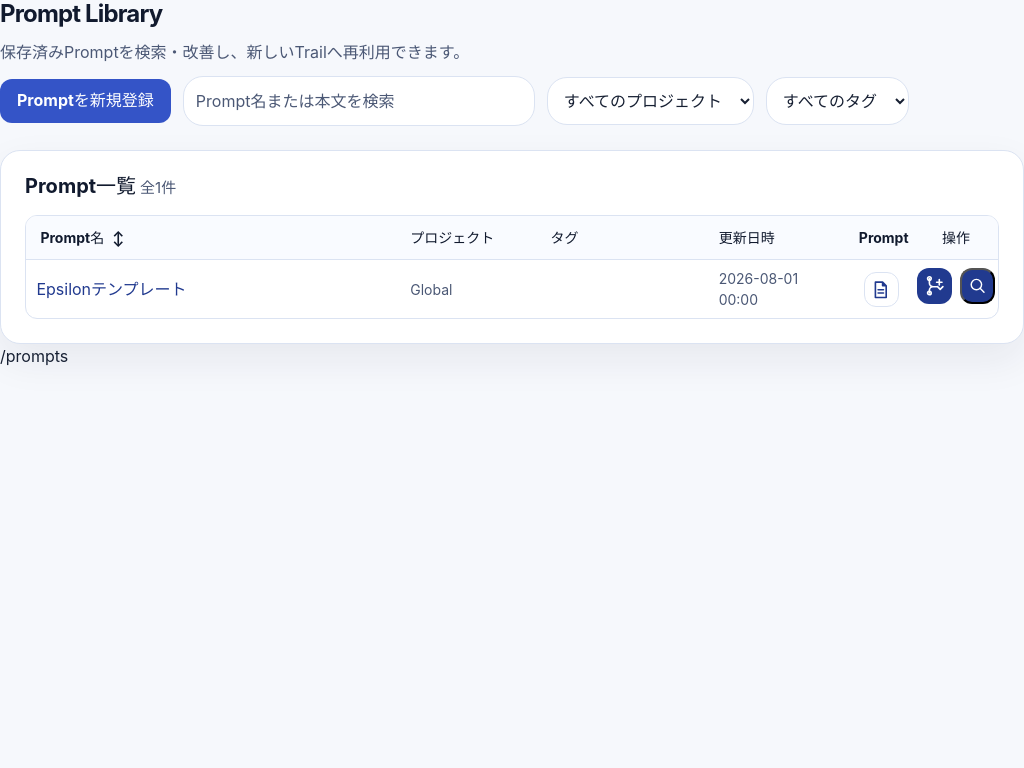
Test: PromptLibraryPage › restores saved variable values on open, keeps them after re-opening, and uses a badge label
Click the button named "「Epsilonテンプレート」のPrompt本文を表示": (881,290) [864,272,899,307]
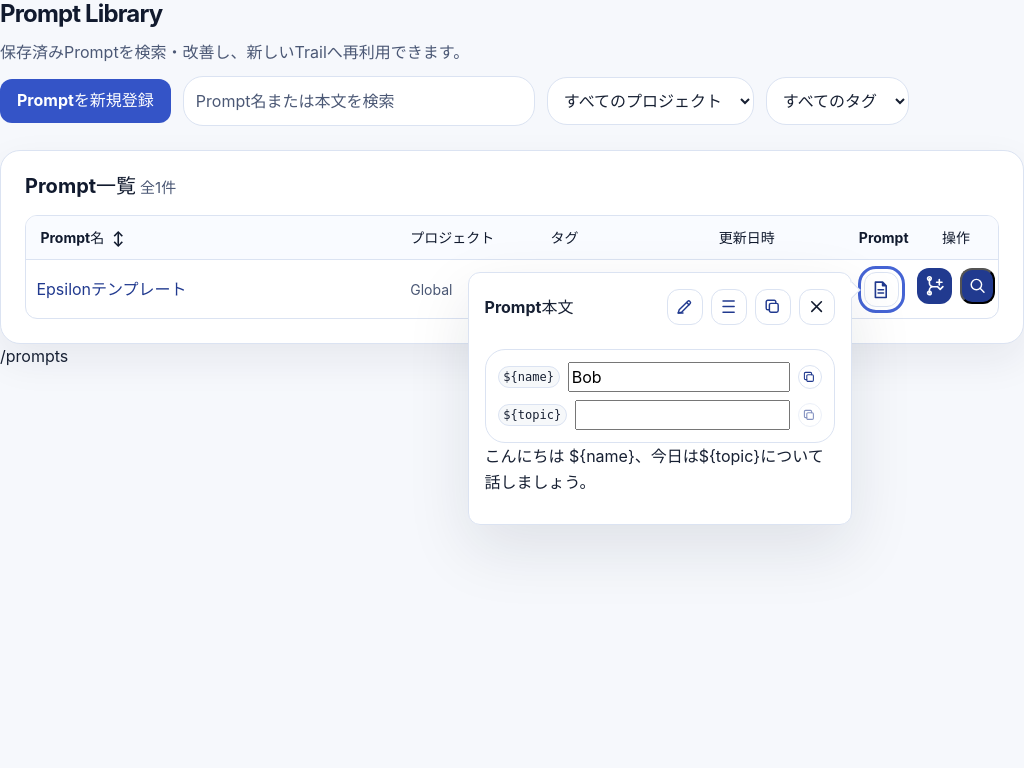
Expected: the field labelled "${name}" holds "Bob"
Replace the text in the field labelled "${name}" with "Carol": (679,377) [568,362,790,392]
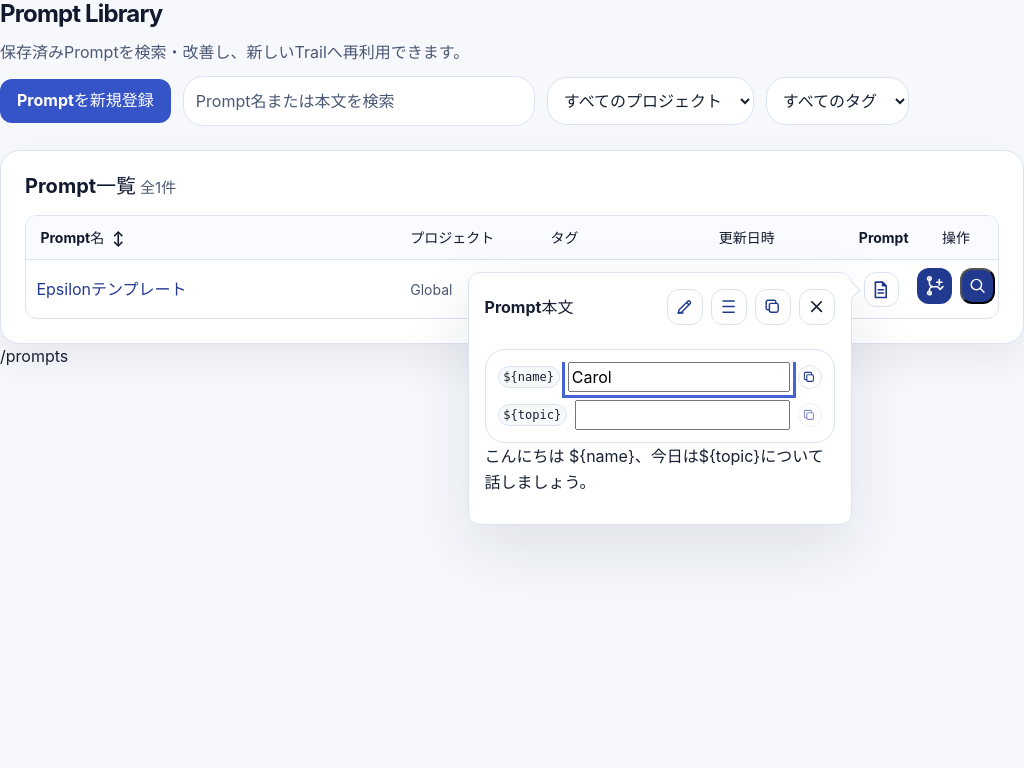
Click the button named "Prompt本文を閉じる": (816,307) [798,289,834,325]
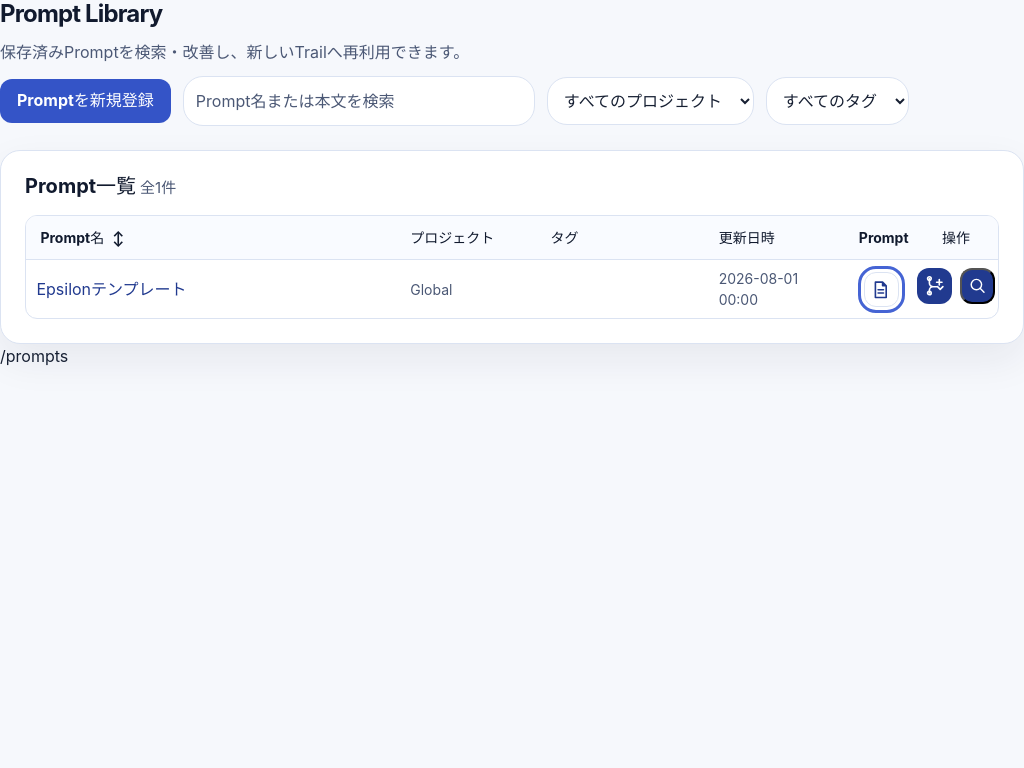
Click the button named "「Epsilonテンプレート」のPrompt本文を表示": (881,290) [864,272,899,307]
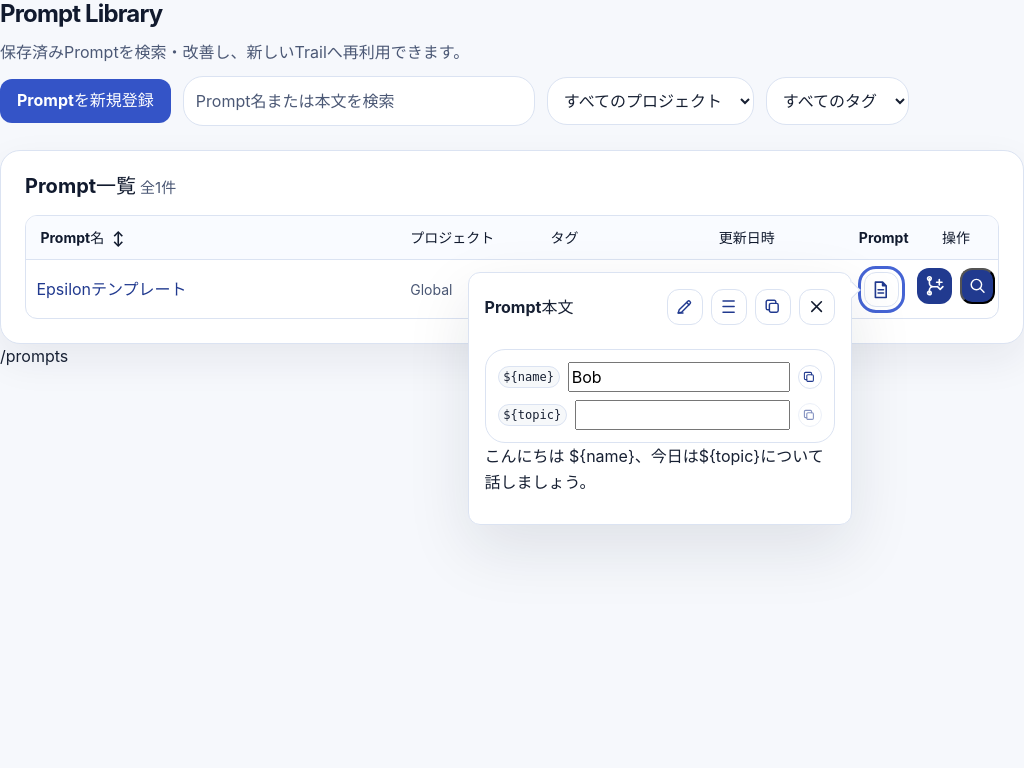
Expected: the field labelled "${name}" holds "Bob", [568,362,790,392]
